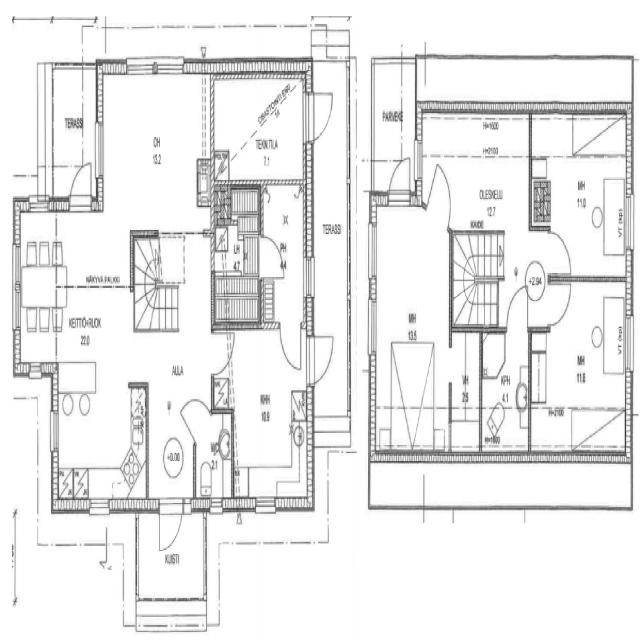door: (306, 329, 336, 388), (156, 497, 184, 557), (306, 87, 335, 143), (427, 157, 452, 220), (546, 276, 574, 330), (546, 226, 574, 278), (68, 158, 94, 213), (504, 280, 530, 335), (258, 231, 286, 282), (386, 153, 412, 206), (278, 322, 304, 374), (210, 328, 236, 378)
window: (365, 215, 380, 286), (365, 290, 379, 361), (92, 116, 106, 185), (623, 309, 636, 379), (124, 54, 158, 80), (624, 189, 637, 255), (154, 54, 187, 80), (252, 493, 279, 519), (303, 250, 316, 302), (86, 495, 113, 520), (48, 404, 60, 458), (28, 193, 51, 217), (12, 239, 22, 294), (12, 279, 22, 332), (412, 134, 422, 186), (208, 497, 225, 517)
zone: (20, 206, 136, 377), (372, 198, 448, 450), (98, 70, 210, 228), (531, 278, 630, 454), (532, 116, 631, 281), (226, 324, 308, 497), (53, 380, 144, 506), (210, 79, 308, 181), (213, 178, 260, 327), (50, 62, 98, 199), (372, 54, 417, 196), (448, 154, 530, 231), (480, 328, 530, 452), (450, 326, 482, 450), (195, 408, 232, 508)
